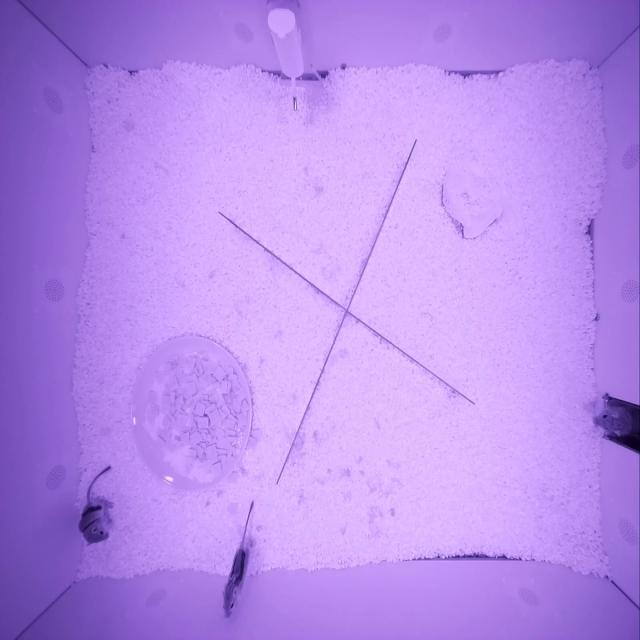adult_back: (592, 407, 632, 436)
pup_h_stripe: (78, 502, 110, 546)
pup_v_stripe: (221, 548, 244, 618)
